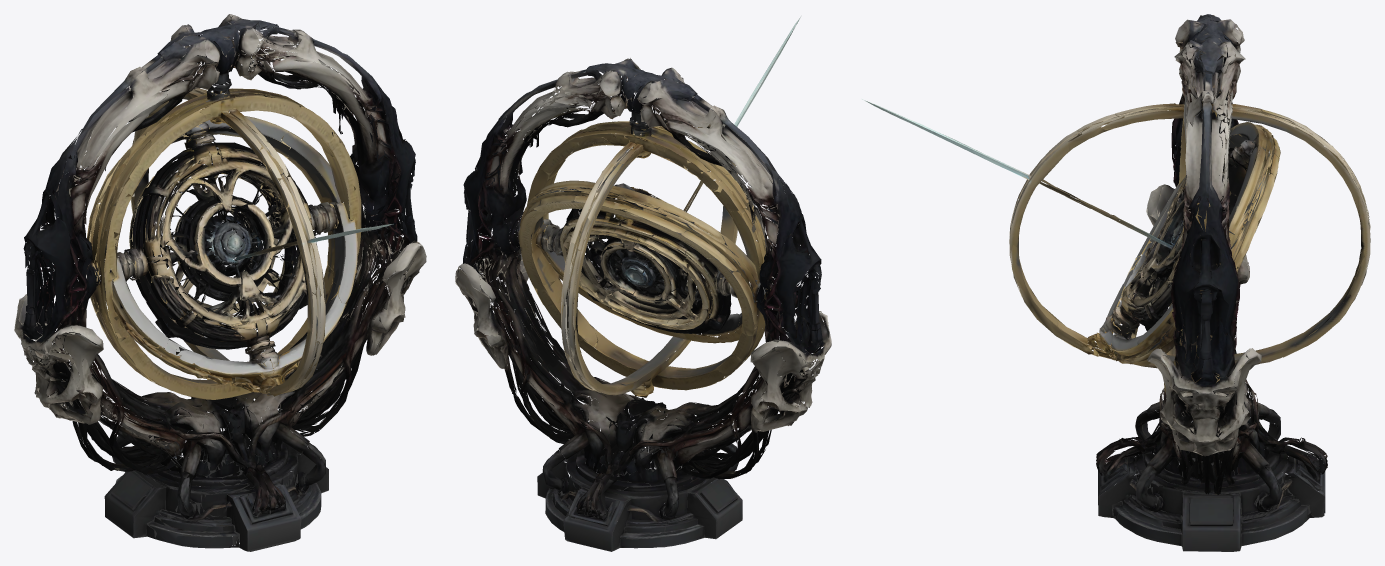
File: evac_avionics_gyro_gimbal.glb
3 views of the same model, side by side, from view 1: azimuth 30°, elevation 25°; view 2: azimuth 150°, elevation 25°; view 3: azimuth 270°, elevation 25° (orthographic). The views are drawn at different scales.
Parts seen in each view (by area): view 1: node_0; view 2: node_0; view 3: node_0.
Part boxes in pixels (x1,y1,x2,y2): node_0: [14, 14, 426, 551]; node_0: [455, 17, 831, 551]; node_0: [862, 14, 1370, 551].
Bounding box in the file's own units: 0.8072 × 0.9408 × 0.9165.
Materials: 1 (1 with a texture image).
